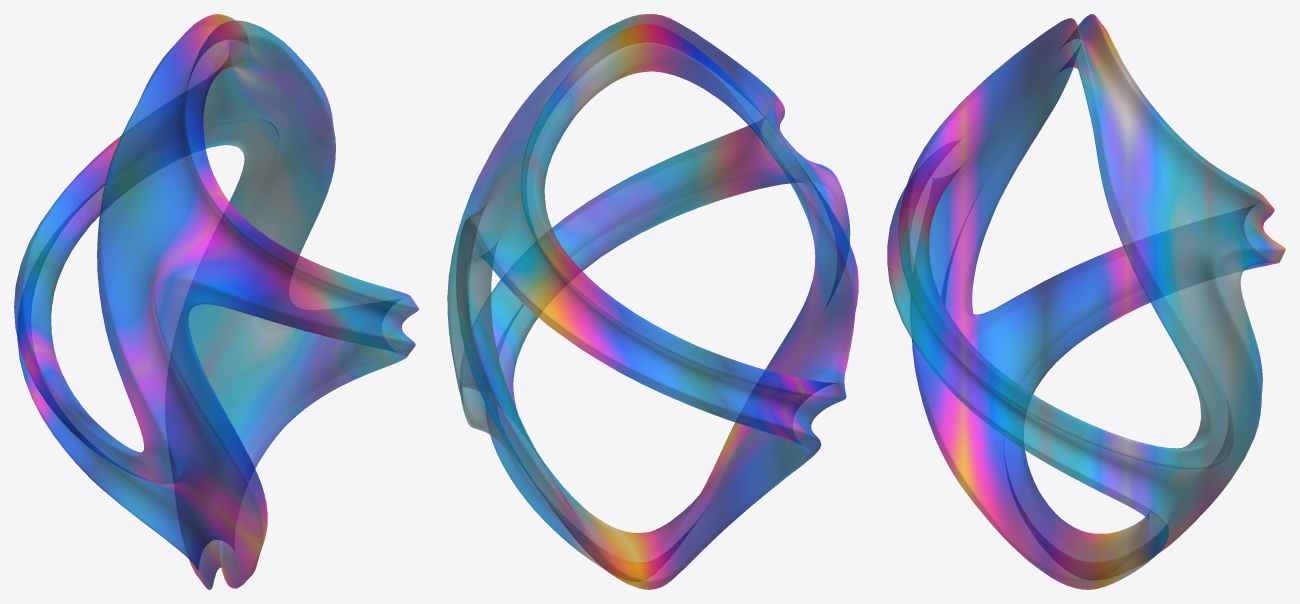
3 views of the same model, side by side, from view 1: azimuth 30°, elevation 25°; view 2: azimuth 150°, elevation 25°; view 3: azimuth 270°, elevation 25° (orthographic).
Visible parts, largest first — view 1: Hedra001; view 2: Hedra001; view 3: Hedra001.
Part boxes in pixels (x1=…): Hedra001: x1=14, y1=14, x2=418, y2=589; Hedra001: x1=447, y1=14, x2=858, y2=589; Hedra001: x1=887, y1=14, x2=1285, y2=589.
Bounding box in the file's own units: 1.84 × 2.88 × 1.84.
Materials: 1 (1 with a texture image).
